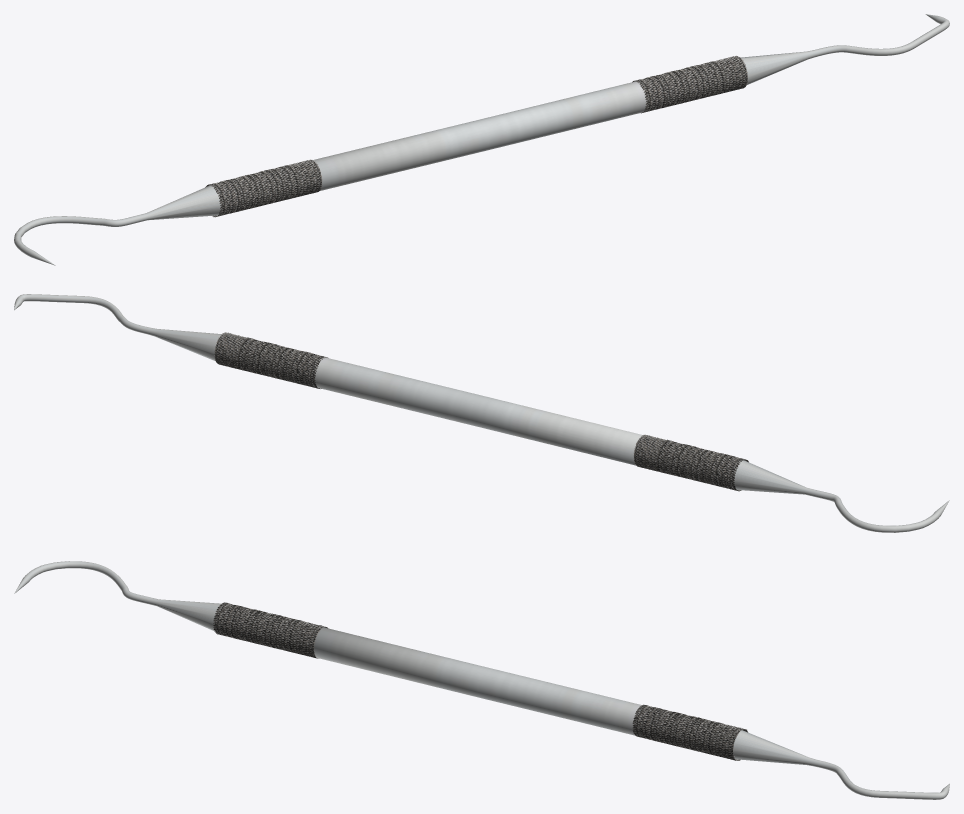
File: dental_pick.fbx
3 views of the same model, one above another, from view 1: azimuth 30°, elevation 25°; view 2: azimuth 150°, elevation 25°; view 3: azimuth 330°, elevation 25° (orthographic).
Visible parts, largest first — view 1: pick.001, BezierCurve.004, BezierCurve.002; view 2: pick.001, BezierCurve.004, BezierCurve.002; view 3: pick.001, BezierCurve.002, BezierCurve.004.
Part boxes in pixels (x1,y1,x2,y2): pick.001: (14, 14, 949, 265); BezierCurve.004: (205, 159, 322, 217); BezierCurve.002: (632, 55, 747, 113); pick.001: (14, 294, 949, 532); BezierCurve.004: (633, 434, 748, 491); BezierCurve.002: (214, 332, 327, 388); pick.001: (14, 561, 949, 799); BezierCurve.002: (632, 704, 748, 760); BezierCurve.004: (213, 602, 327, 658).
Bounding box in the file's own units: 896 × 28.42 × 84.57.
2 materials, 2 textured.
